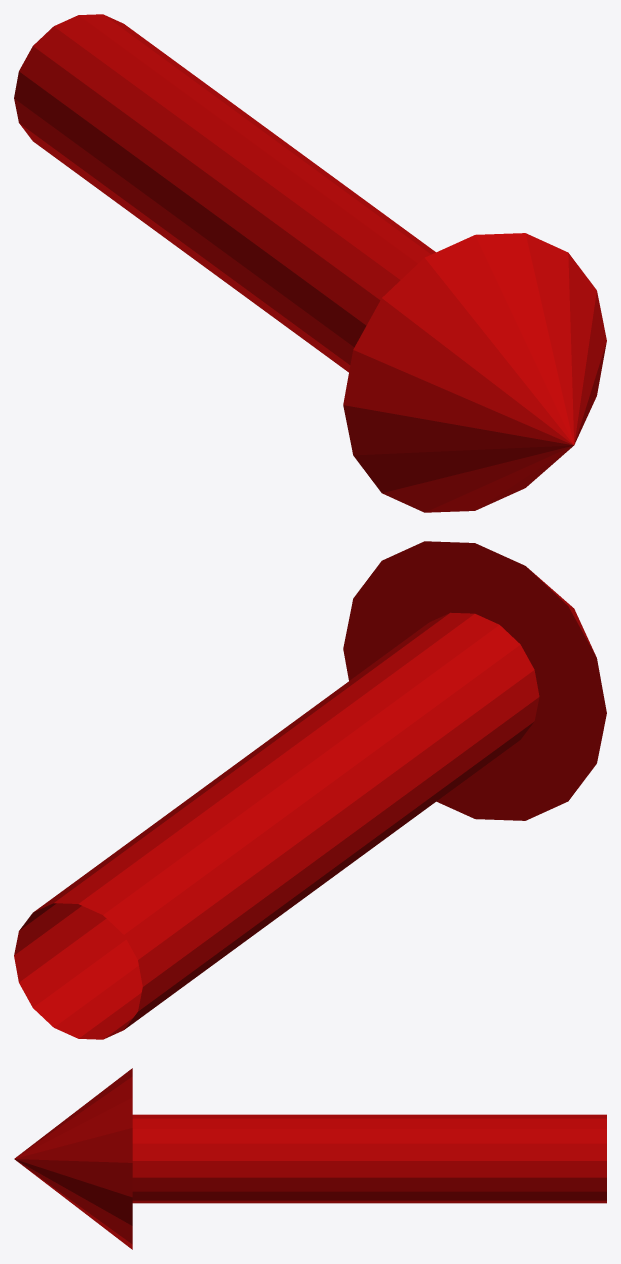
File: Arrow.obj
The picture shows the model from 3 angles, top to bottom: view 1: azimuth 30°, elevation 25°; view 2: azimuth 150°, elevation 25°; view 3: azimuth 270°, elevation 25°; orthographic projection. The views are drawn at different scales.
Visible parts, largest first — view 1: Cylinder; view 2: Cylinder; view 3: Cylinder.
Part boxes in pixels (x1,y1,x2,y2): Cylinder: (14, 14, 606, 512); Cylinder: (14, 541, 606, 1039); Cylinder: (14, 1068, 606, 1249).
Size of the model in its own units: 0.3072 by 0.3072 by 1.
